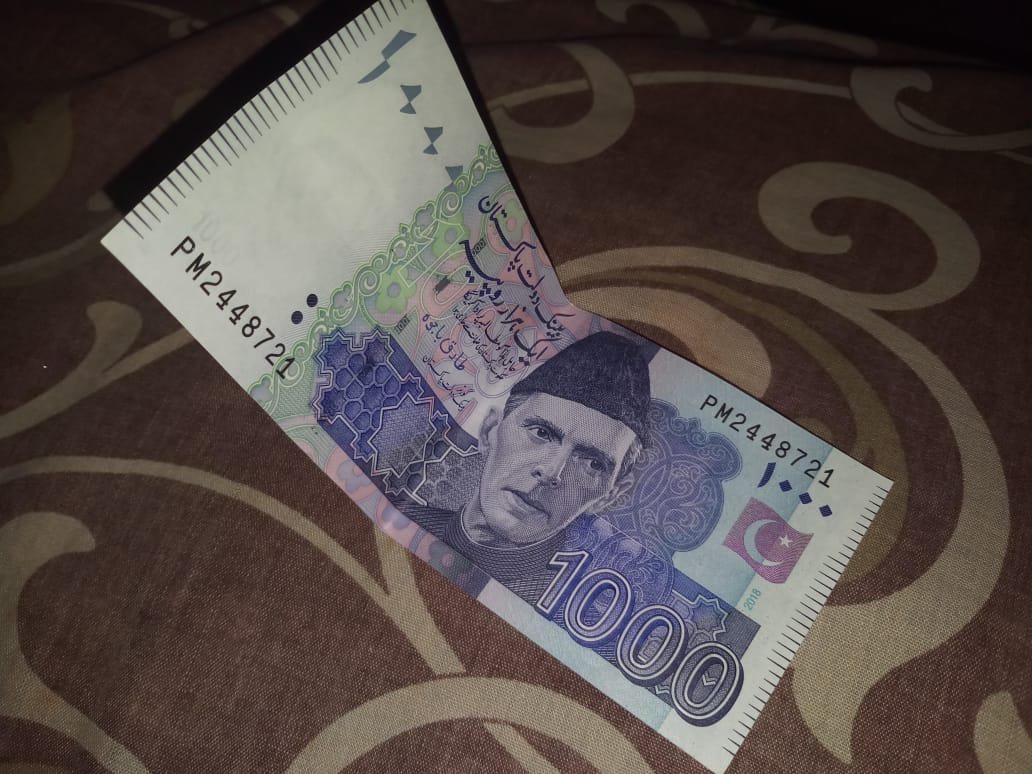1000 rupee: (111, 20, 905, 736)
